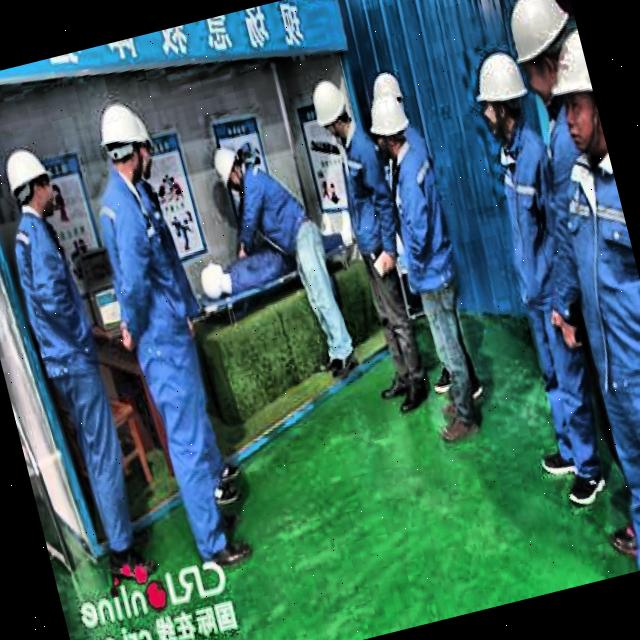helmet: (536, 25, 608, 168), (498, 0, 588, 109), (461, 46, 538, 146), (0, 137, 65, 236), (90, 93, 152, 184), (362, 94, 418, 166), (306, 71, 354, 140), (122, 108, 163, 184), (207, 137, 250, 199), (365, 69, 408, 120)
